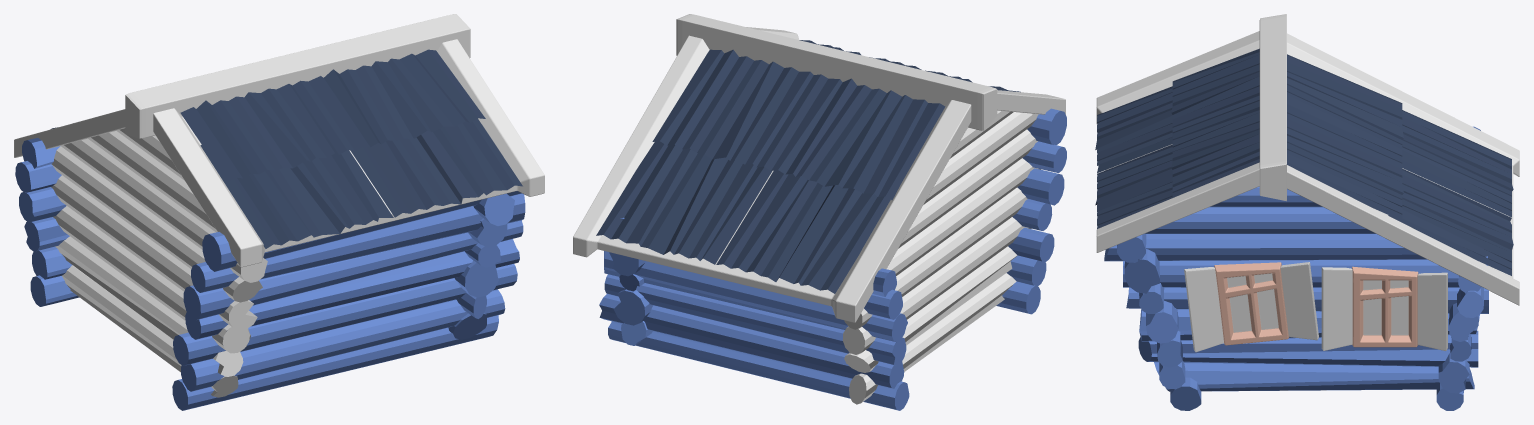
File: isba 1.fbx
3 renders of one model, left to right at view 1: azimuth 30°, elevation 25°; view 2: azimuth 150°, elevation 25°; view 3: azimuth 270°, elevation 25°, orthographic. The views are drawn at different scales.
Parts seen in each view (by area): view 1: Cube, Cube.002, Plane.005, Plane.004, Plane.007, Plane.006, Cylinder.018, Cylinder.019, Cylinder.022, Cylinder.021, Cylinder.020, Cylinder.024 (+21 smaller); view 2: Cube, Plane.002, Plane.003, Plane, Plane.001, Cube.002, Cylinder.025, Cylinder.026, Cylinder.027, Cylinder.031, Cylinder.011, Cylinder.013 (+18 smaller); view 3: Cube, Cylinder.005, Plane.001, Cylinder, Plane, Plane.003, Plane.002, Cylinder.001, Cube.008, Cube.003, Plane.004, Cube.002 (+24 smaller).
Part boxes in pixels (box(x1,y1,x2,y2)): Cube: box(14, 39, 544, 267); Cube.002: box(125, 14, 470, 138); Plane.005: box(308, 49, 485, 150); Plane.004: box(180, 80, 354, 181); Plane.007: box(351, 118, 522, 217); Plane.006: box(200, 145, 393, 248); Cylinder.018: box(181, 289, 505, 391); Cylinder.019: box(173, 264, 517, 365); Cylinder.022: box(191, 193, 525, 292); Cylinder.021: box(183, 220, 523, 320); Cylinder.020: box(185, 239, 519, 339); Cylinder.024: box(172, 315, 498, 410); Cube: box(573, 27, 1065, 322); Plane.002: box(596, 141, 772, 264); Plane.003: box(716, 170, 890, 293); Plane: box(652, 49, 828, 170); Plane.001: box(771, 78, 945, 200); Cube.002: box(676, 14, 997, 130); Cylinder.025: box(599, 293, 904, 388); Cylinder.026: box(604, 274, 906, 365); Cylinder.027: box(604, 251, 907, 342); Cylinder.031: box(608, 321, 909, 410); Cylinder.011: box(842, 217, 1031, 354); Cylinder.013: box(886, 158, 1040, 275); Cube: box(1096, 31, 1519, 305); Cylinder.005: box(1104, 234, 1426, 261); Plane.001: box(1287, 54, 1403, 162); Cylinder: box(1154, 362, 1474, 391); Plane: box(1287, 112, 1403, 220); Plane.003: box(1402, 110, 1513, 217); Plane.002: box(1388, 168, 1513, 275); Cylinder.001: box(1138, 330, 1478, 367); Cube.008: box(1214, 262, 1289, 345); Cube.003: box(1352, 266, 1418, 347); Plane.004: box(1171, 48, 1259, 138); Cube.002: box(1259, 14, 1286, 201).
Bounding box in the file's own units: 268 × 210 × 313.
